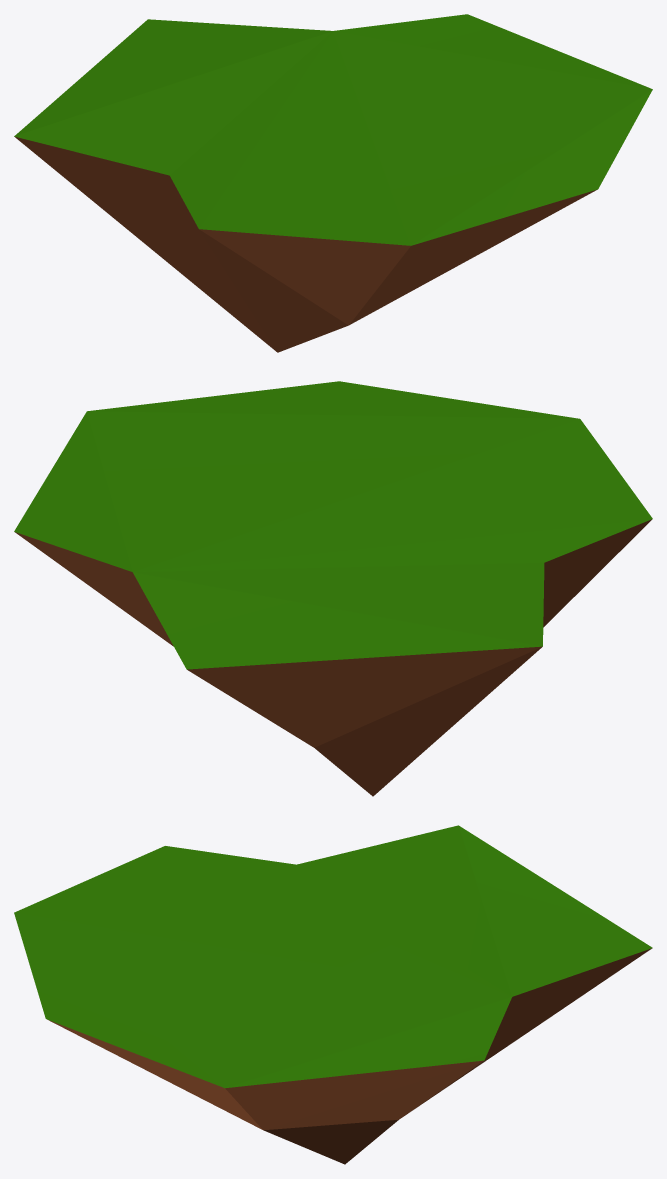
File: lowpolyisland.fbx
3 renders of one model, top to bottom at view 1: azimuth 30°, elevation 25°; view 2: azimuth 150°, elevation 25°; view 3: azimuth 270°, elevation 25°, orthographic. The views are drawn at different scales.
Parts seen in each view (by area): view 1: Plane.002; view 2: Plane.002; view 3: Plane.002.
Part boxes in pixels (x1,y1,x2,y2): Plane.002: (14, 14, 652, 352); Plane.002: (14, 381, 652, 796); Plane.002: (14, 825, 652, 1164).
Size of the model in its own units: 229 by 96.28 by 234.
